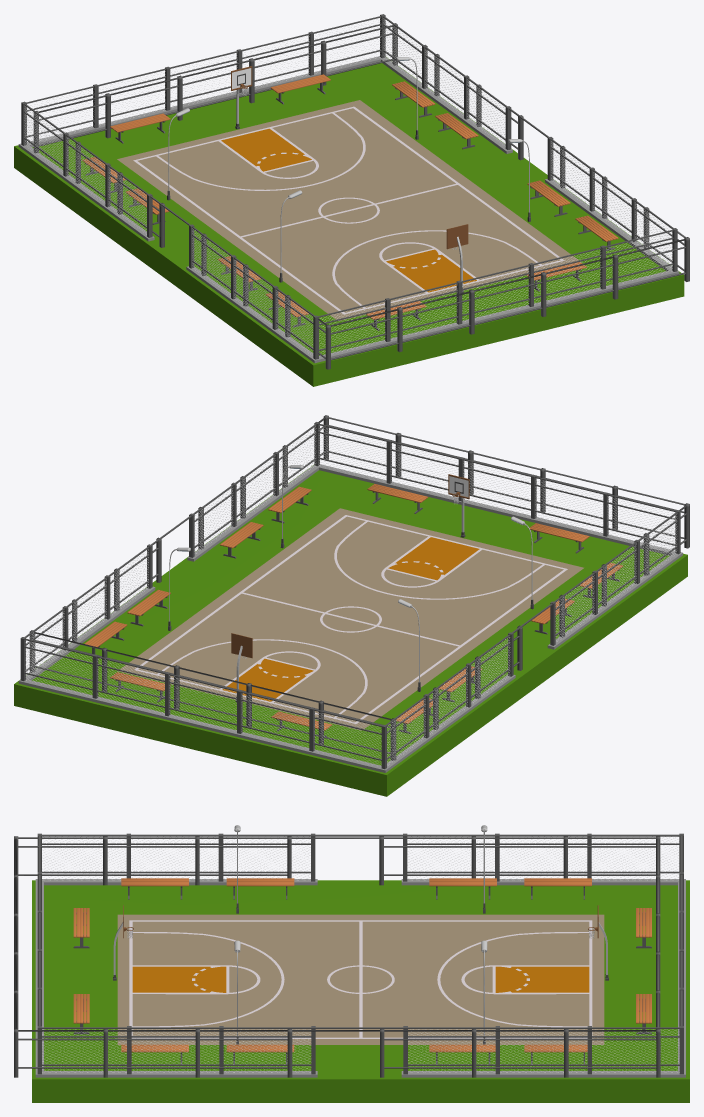
The model's file is court6.fbx.
3 renders of one model, top to bottom at view 1: azimuth 30°, elevation 25°; view 2: azimuth 150°, elevation 25°; view 3: azimuth 270°, elevation 25°, orthographic. The views are drawn at different scales.
Parts seen in each view (by area): view 1: 004_Backetball_court__Cube, Cube.006, Cube.005, 004_Backetball_court__Cube_005, Cube.009, Cylinder.001, base, Cube.020, Cube.019; view 2: 004_Backetball_court__Cube, Cube.006, Cube.005, 004_Backetball_court__Cube_005, Cube.009, Cylinder.001, base, Cube.022, Cube.021; view 3: 004_Backetball_court__Cube, Cube.006, Cube.005, 004_Backetball_court__Cube_005, Cube.009, base, Cube.004, Cube.008, Cube.014, Cube.007, Cube.016, Cube.015 (+7 smaller).
Boxes of the visible parts, x1=… form: 004_Backetball_court__Cube: x1=14, y1=57, x2=684, y2=386; Cube.006: x1=24, y1=18, x2=672, y2=355; Cube.005: x1=21, y1=14, x2=677, y2=359; 004_Backetball_court__Cube_005: x1=33, y1=23, x2=689, y2=369; Cube.009: x1=18, y1=56, x2=679, y2=363; Cylinder.001: x1=231, y1=66, x2=468, y2=292; base: x1=167, y1=57, x2=530, y2=282; Cube.020: x1=270, y1=74, x2=330, y2=104; Cube.019: x1=110, y1=113, x2=170, y2=143; 004_Backetball_court__Cube: x1=14, y1=465, x2=687, y2=796; Cube.006: x1=25, y1=425, x2=677, y2=766; Cube.005: x1=20, y1=422, x2=680, y2=769; 004_Backetball_court__Cube_005: x1=29, y1=415, x2=689, y2=760; Cube.009: x1=18, y1=464, x2=682, y2=772; Cylinder.001: x1=231, y1=474, x2=469, y2=702; base: x1=168, y1=465, x2=533, y2=691; Cube.022: x1=367, y1=484, x2=428, y2=513; Cube.021: x1=529, y1=523, x2=589, y2=553; 004_Backetball_court__Cube: x1=32, y1=880, x2=689, y2=1102; Cube.006: x1=42, y1=836, x2=679, y2=1072; Cube.005: x1=37, y1=833, x2=683, y2=1074; 004_Backetball_court__Cube_005: x1=14, y1=836, x2=660, y2=1077; Cube.009: x1=35, y1=879, x2=685, y2=1077; base: x1=234, y1=825, x2=487, y2=1044; Cube.004: x1=121, y1=878, x2=188, y2=899; Cube.008: x1=429, y1=878, x2=496, y2=899; Cube.014: x1=524, y1=878, x2=591, y2=899; Cube.007: x1=226, y1=878, x2=294, y2=899; Cube.016: x1=226, y1=1044, x2=294, y2=1064; Cube.015: x1=429, y1=1044, x2=495, y2=1064.
Bounding box in the file's own units: 2398 × 757 × 3444.
